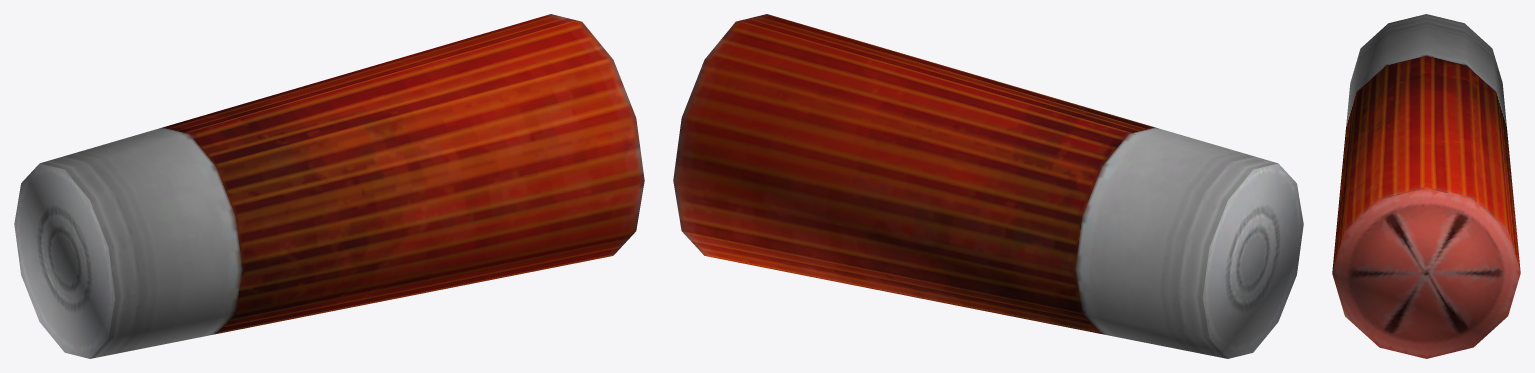
File: shells.glb
The picture shows the model from 3 angles, left to right: view 1: azimuth 30°, elevation 25°; view 2: azimuth 150°, elevation 25°; view 3: azimuth 270°, elevation 25°; orthographic projection. The views are drawn at different scales.
Visible parts, largest first — view 1: S_ShotGunAmmo; view 2: S_ShotGunAmmo; view 3: S_ShotGunAmmo.
Part boxes in pixels (x1,y1,x2,y2): S_ShotGunAmmo: (14,14,644,358); S_ShotGunAmmo: (673,14,1303,358); S_ShotGunAmmo: (1332,14,1520,358).
Size of the model in its own units: 0.053 by 0.0221 by 0.0221.
1 material, 1 textured.
